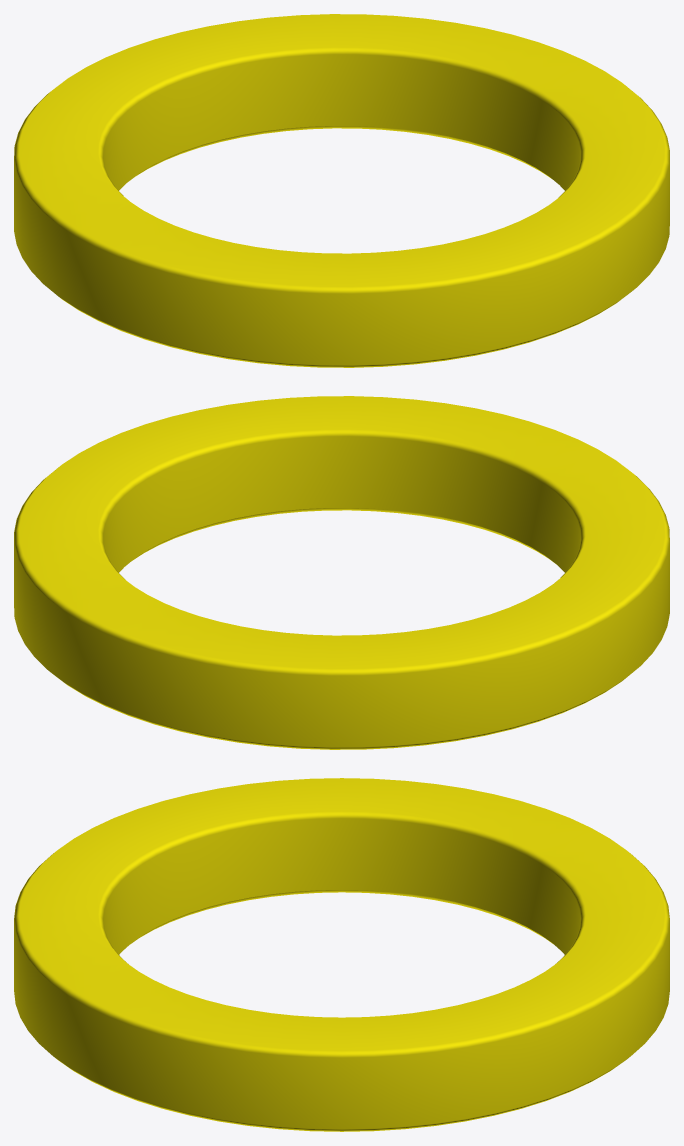
3 renders of one model, top to bottom at view 1: azimuth 30°, elevation 25°; view 2: azimuth 150°, elevation 25°; view 3: azimuth 270°, elevation 25°, orthographic.
Parts seen in each view (by area): view 1: seal_body; view 2: seal_body; view 3: seal_body.
Boxes of the visible parts, x1=… form: seal_body: x1=14, y1=14, x2=669, y2=367; seal_body: x1=14, y1=396, x2=669, y2=749; seal_body: x1=14, y1=778, x2=669, y2=1131.
Bounding box in the file's own units: 0.0349 × 0.00476 × 0.0349.
